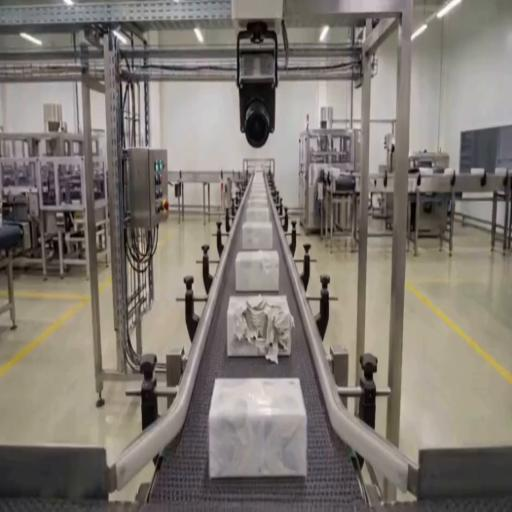defective: (210, 377, 308, 478), (226, 294, 294, 357)
good: (234, 250, 280, 295), (241, 221, 275, 251), (246, 192, 270, 214), (246, 177, 270, 198)
